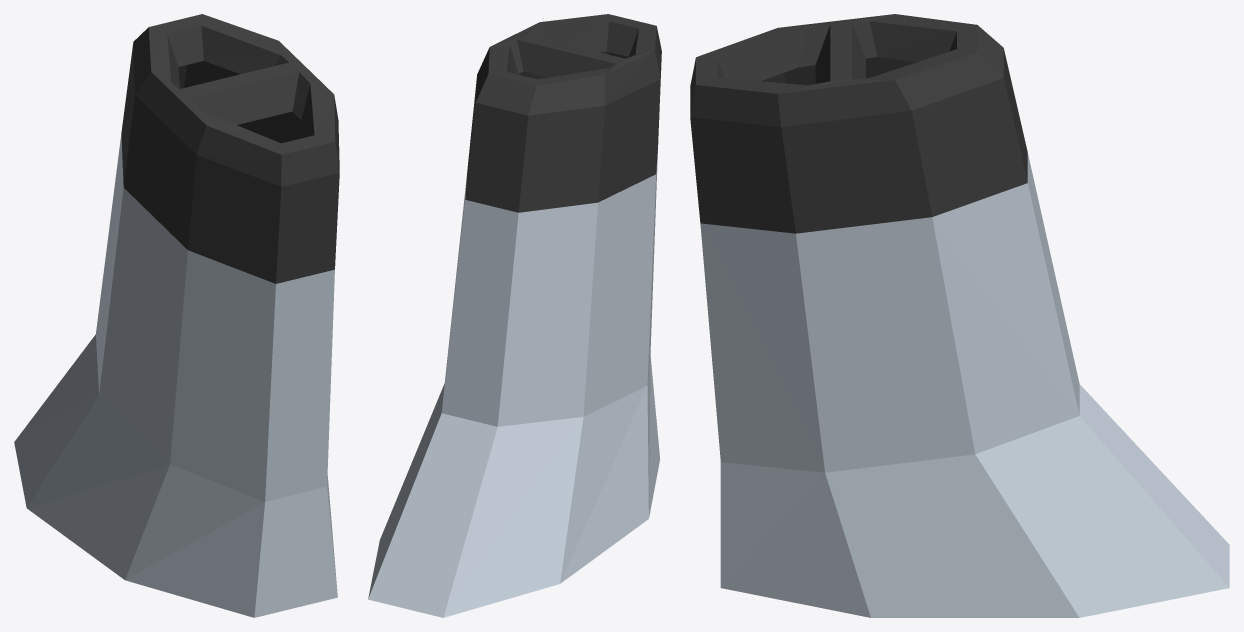
Rendered from engine.FBX.
3 renders of one model, left to right at view 1: azimuth 30°, elevation 25°; view 2: azimuth 150°, elevation 25°; view 3: azimuth 270°, elevation 25°, orthographic. The views are drawn at different scales.
Visible parts, largest first — view 1: VIFS001, VIFS002, VIFS003; view 2: VIFS001, VIFS002; view 3: VIFS001, VIFS002, VIFS003.
Part boxes in pixels (bbox=[...]): VIFS001: bbox=[14, 134, 337, 617]; VIFS002: bbox=[121, 14, 339, 283]; VIFS003: bbox=[179, 61, 301, 142]; VIFS001: bbox=[368, 150, 659, 617]; VIFS002: bbox=[465, 14, 661, 212]; VIFS001: bbox=[700, 153, 1229, 617]; VIFS002: bbox=[690, 14, 1027, 233]; VIFS003: bbox=[763, 57, 915, 84].
Size of the model in its own units: 0.335 by 0.799 by 0.74.
